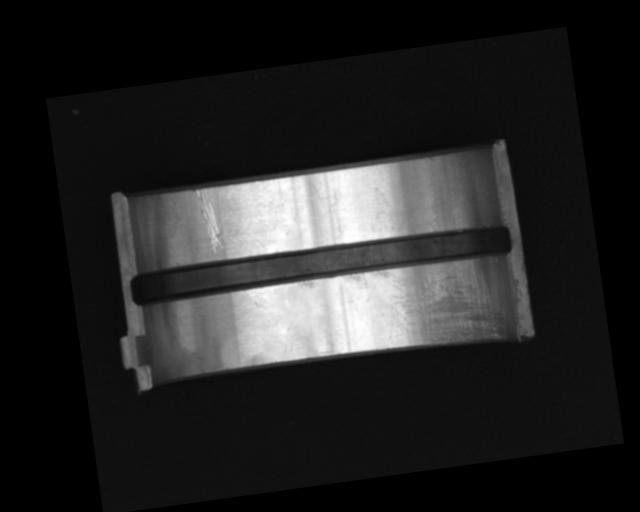gap: (128, 222, 513, 309)
nick: (193, 185, 225, 256)
scratch: (374, 254, 509, 357)
